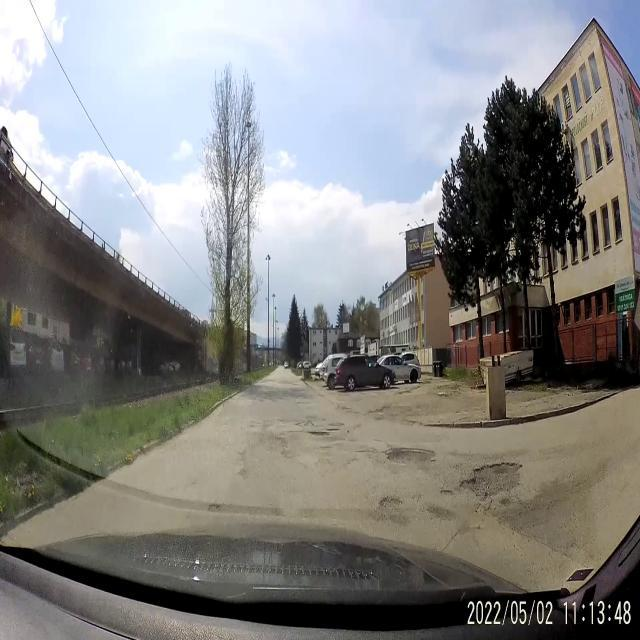Pothole: (458, 452, 524, 510), (381, 442, 436, 471), (306, 422, 342, 444), (378, 489, 402, 515), (436, 476, 454, 502), (204, 498, 223, 516)
